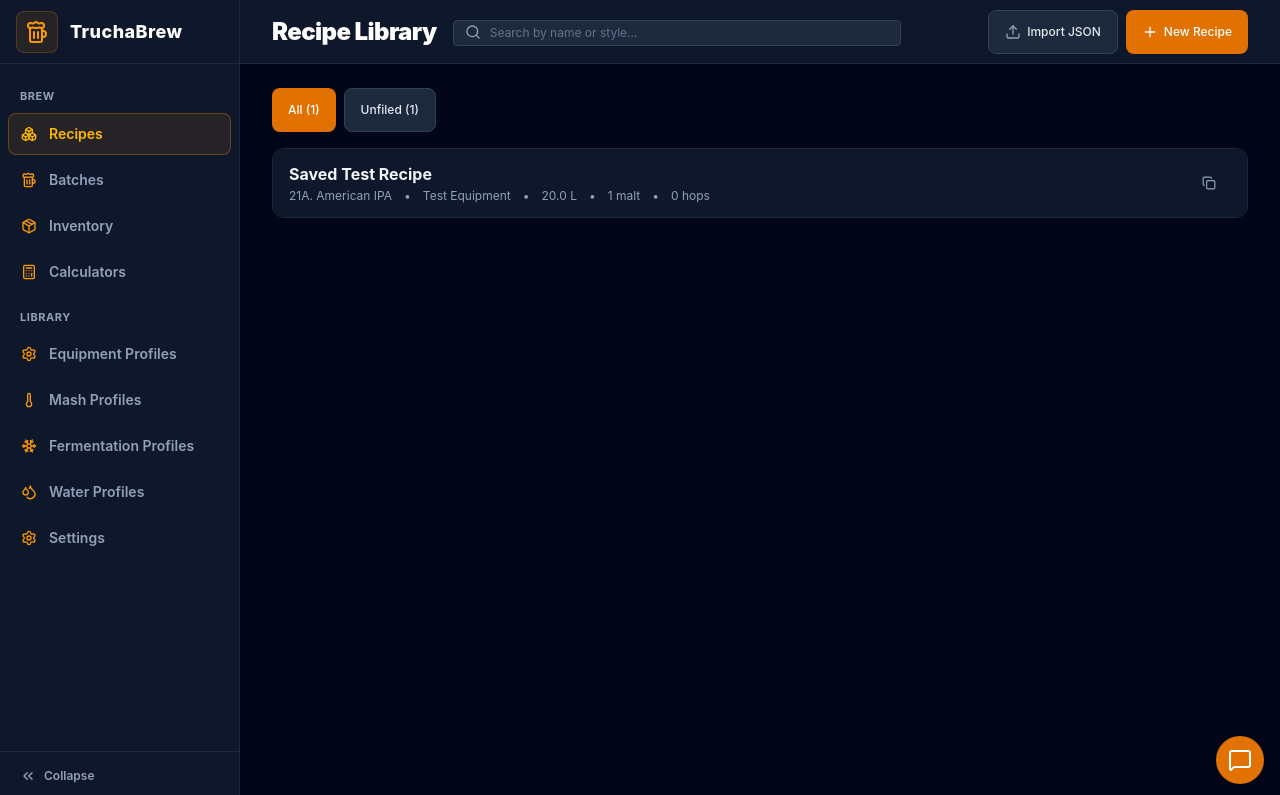
AC-12, AC-13, AC-33, AC-34, AC-38: recipe editor regressions › AC-12: editing a fermentable amount dirties the recipe (save path intact)
Click the text "Saved Test Recipe" at (360, 174), box [289,164,432,184]
(page scrolled)
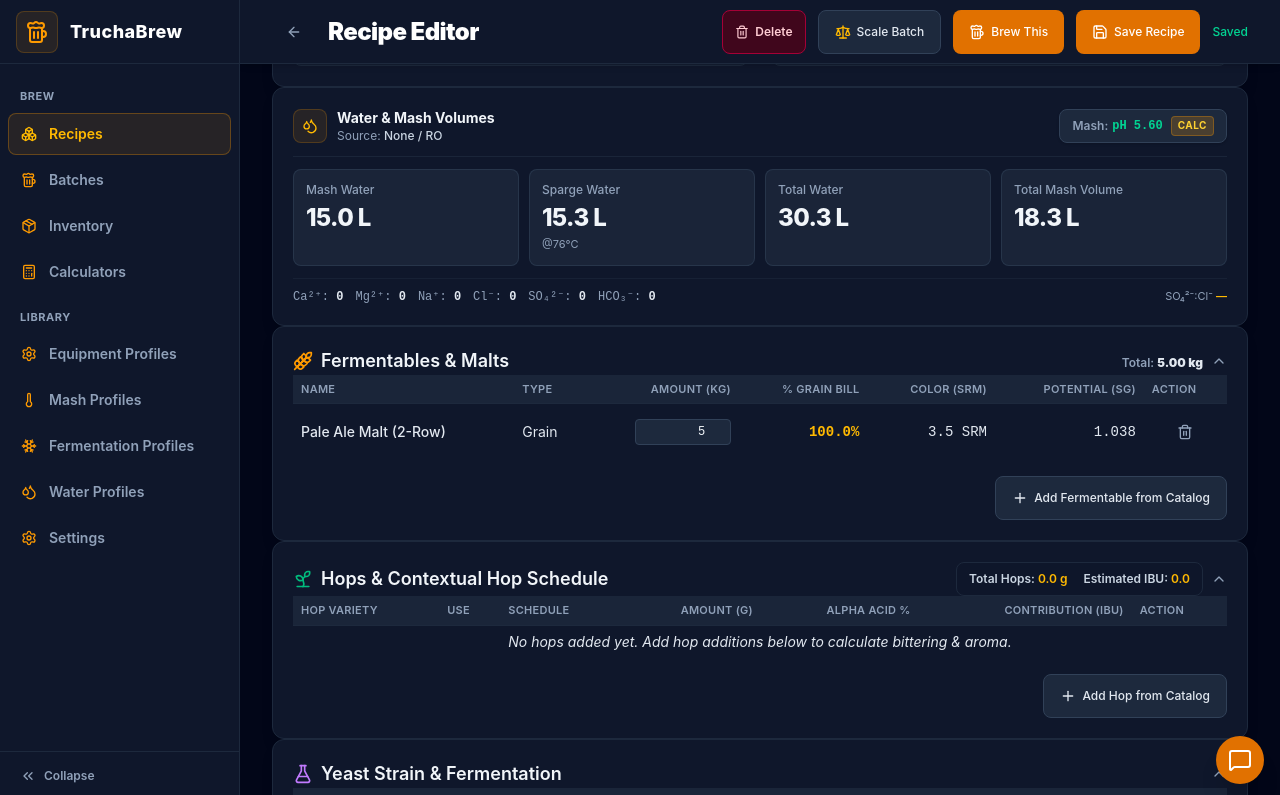
Expected: the button "Brew This" is shown, [953,10,1064,54]
Expected: the element with test id "recipe-fermentables-section" is shown, [272,326,1248,541]
Replace the text in the number field named "Pale Ale Malt (2-Row) amount (kg)" with "6.5" at (683, 432), box [635,419,731,445]
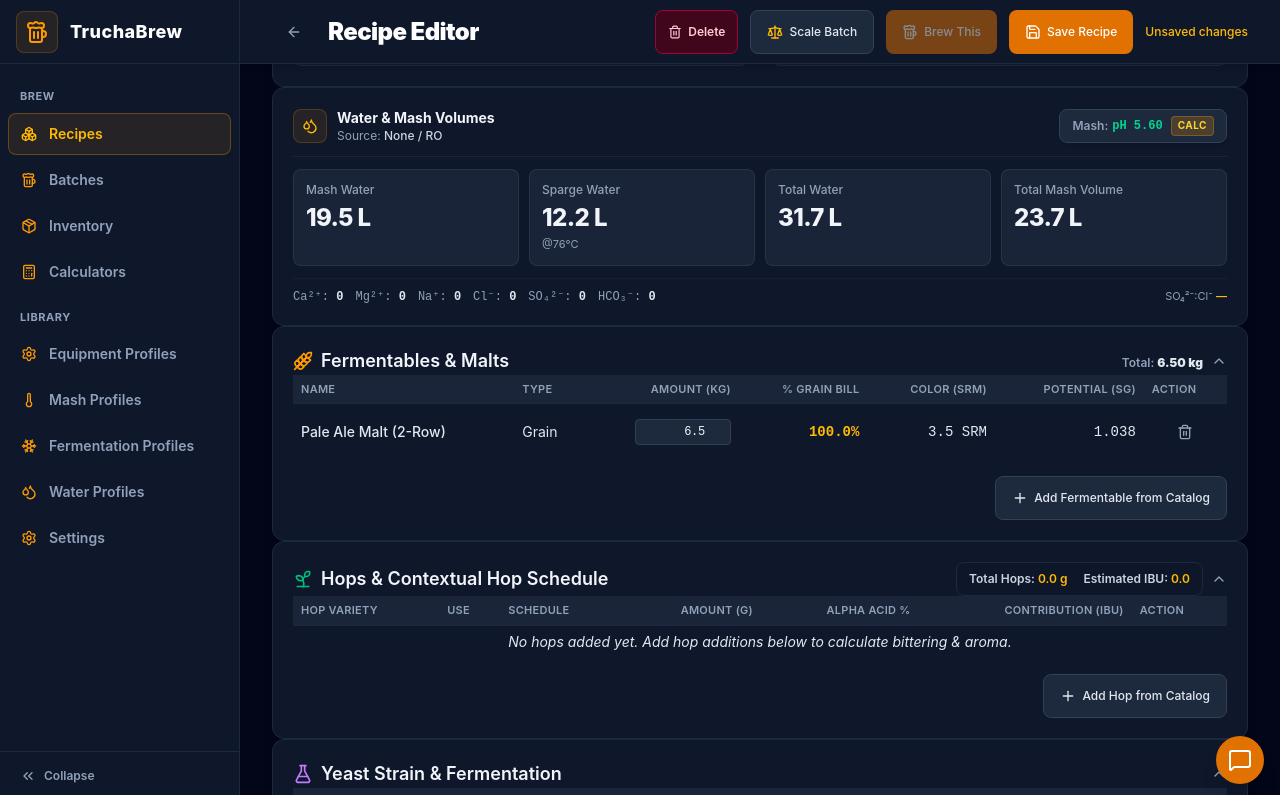
Expected: the button "Brew This" is disabled, [886,10,997,54]
